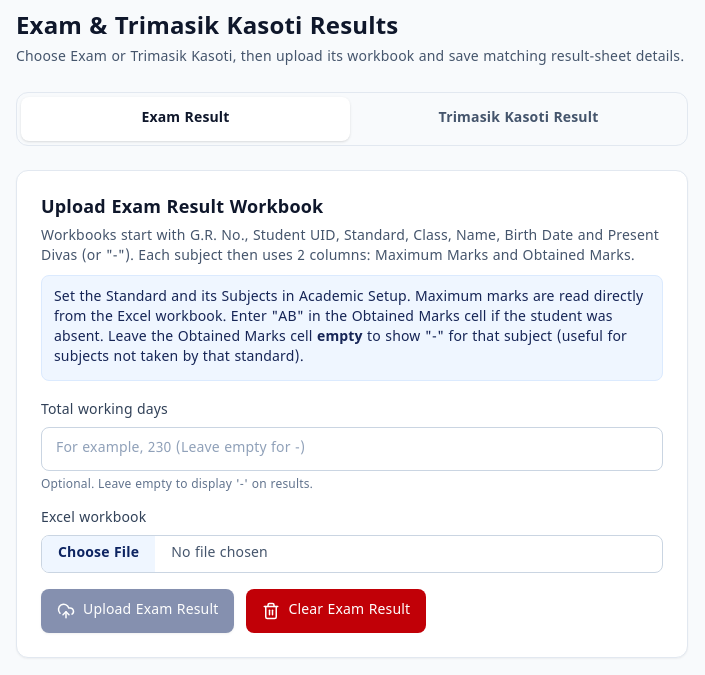
Test: AdminAssessmentsPage › shows working days on the Trimasik Kasoti tab
Step 1. Click the tab "Trimasik Kasoti Result" → {"x": 518, "y": 119}, box [354, 97, 683, 141]
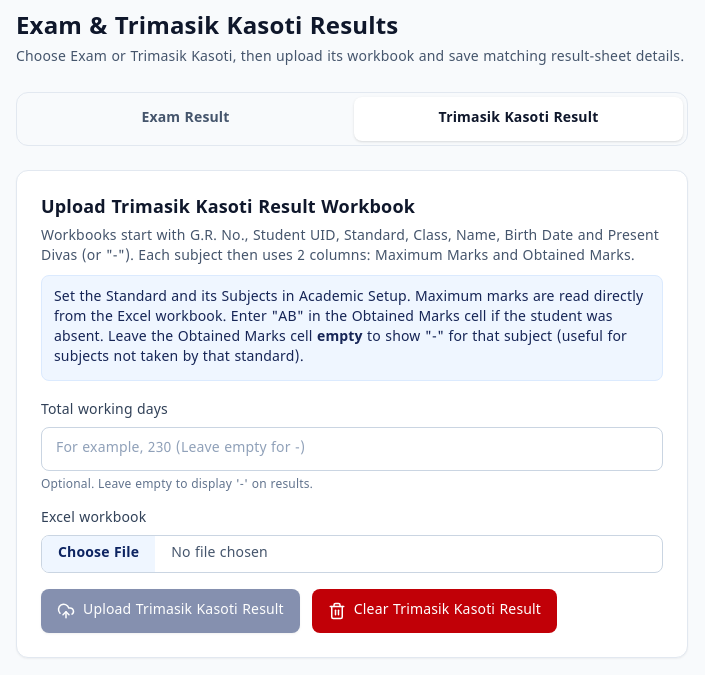
Check: the number field labelled "Total working days" is shown, box [41, 427, 663, 471]
Check: the heading "Upload Trimasik Kasoti Result Workbook" is shown, box [41, 197, 415, 220]
